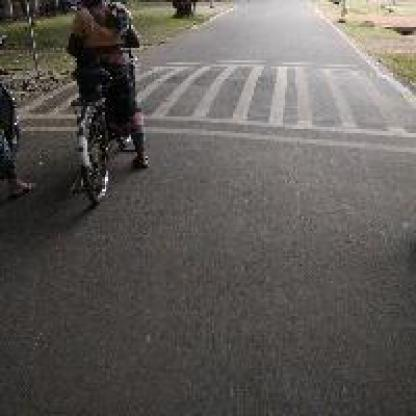Speed Bump: (139, 58, 414, 158)
